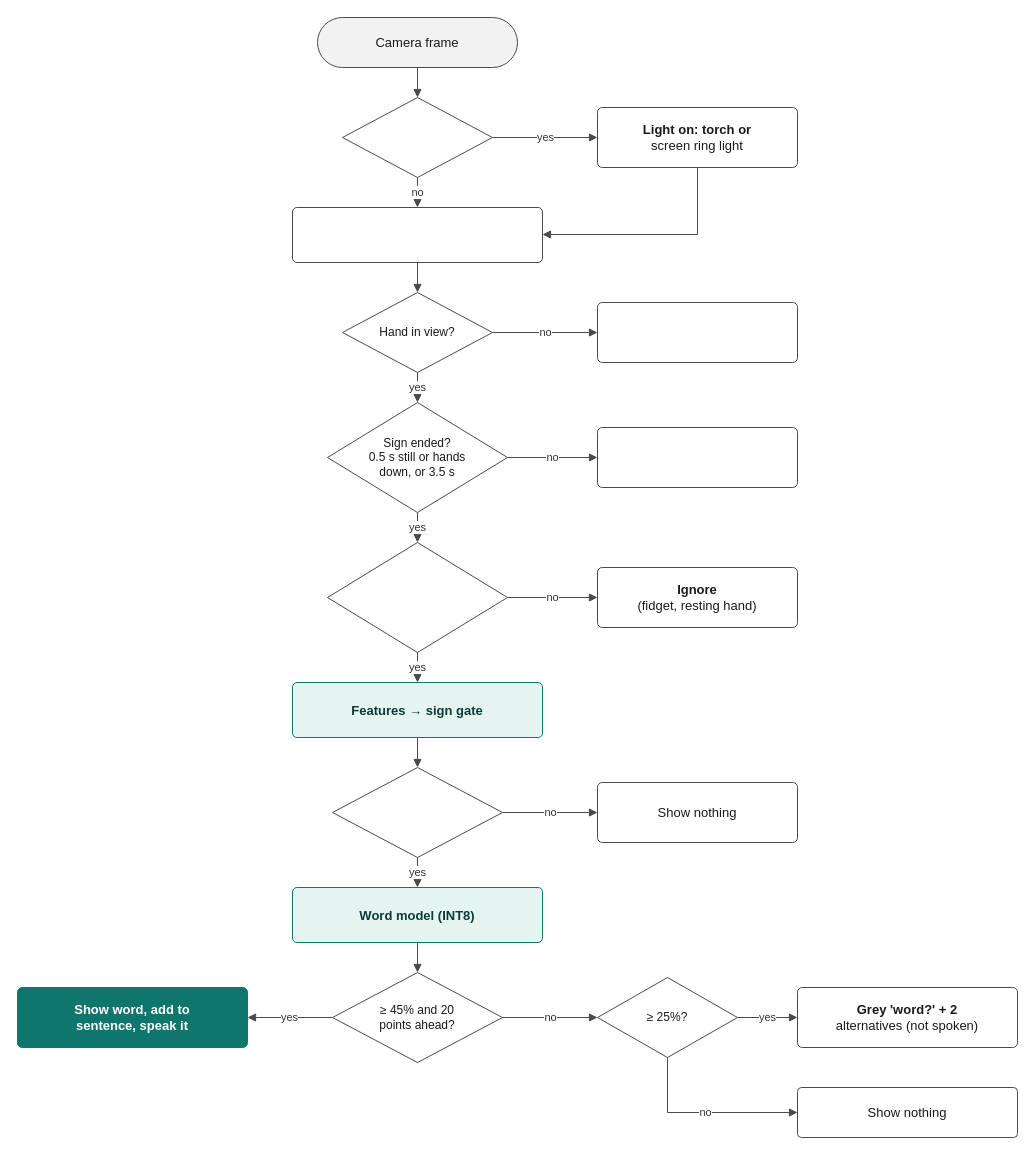
This 1035x1155 diagram has some shape labels left out. The shapes that lost their labels are listed below. From the top down, each one's centre as x and y in pixels, then its label:
point (417, 137): Too dark?
point (417, 234): Landmarks (MediaPipe Holistic)
point (697, 332): Idle: skip every 2nd frame, no model
point (697, 457): Keep collecting frames
point (417, 597): Moved enough? wrist ≥ 0.2 or finger ≥ 0.25 face heights
point (417, 812): Looks like a sign?
